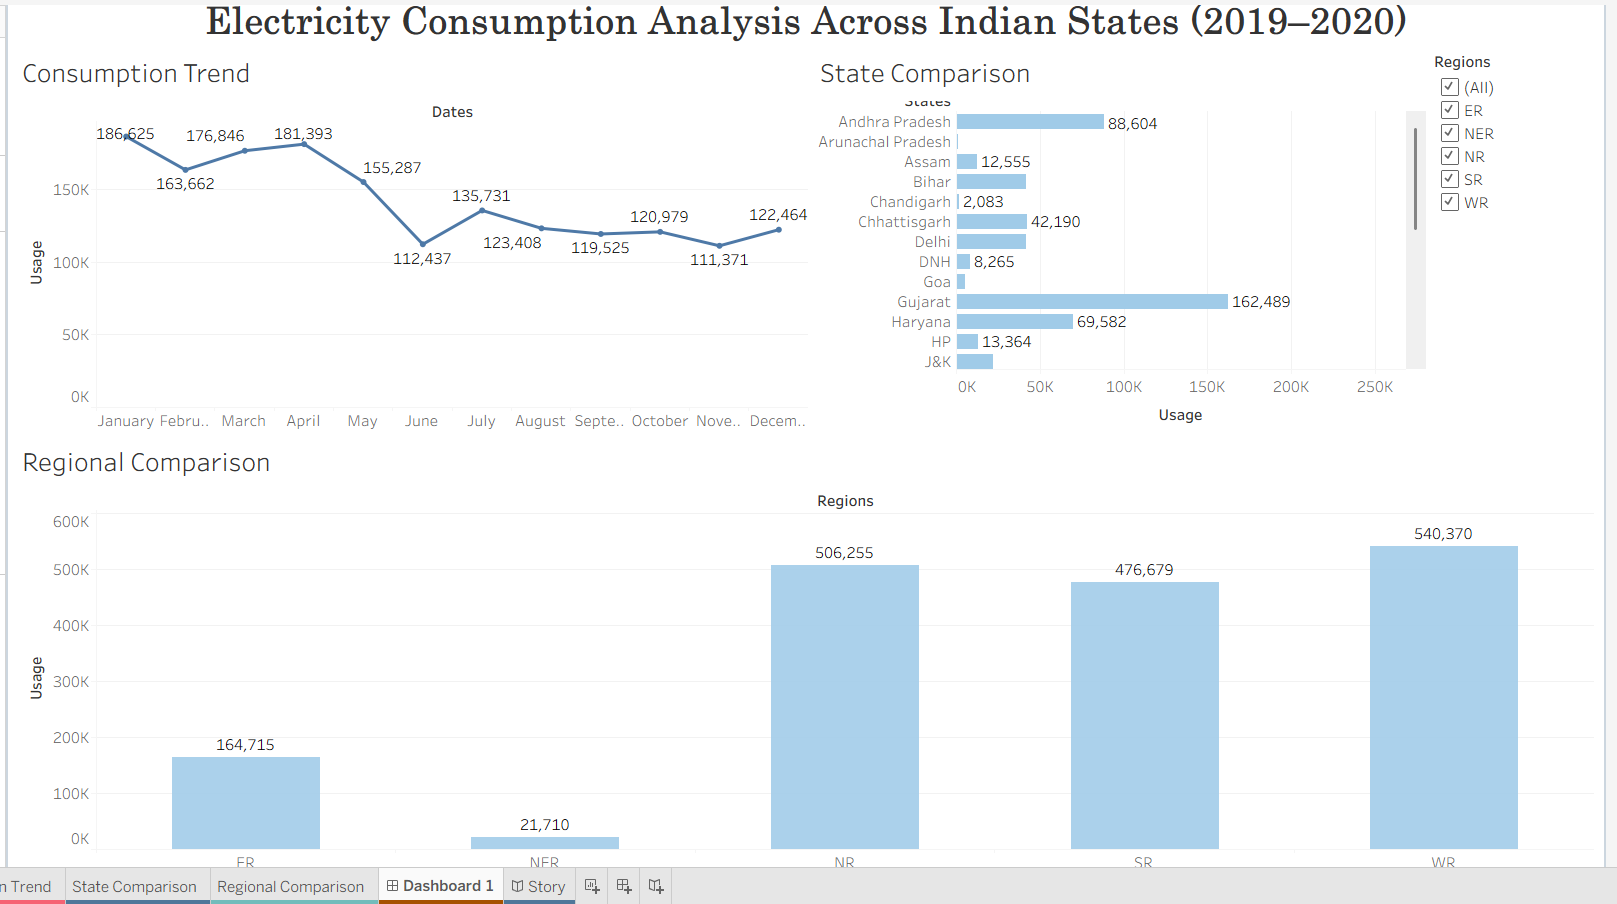

Layout of this report page (visuals, bound fields, positions):
{"tool":"tableau","page":{"name":"Dashboard 1","canvas":[1600,900],"ordinal":0},"visuals":[{"type":"text","box":[8,8,1584,53]},{"type":"worksheet","title":"Consumption Trend","mark":"Automatic","rows":["Usage"],"cols":["Dates"],"box":[8,61,798,389]},{"type":"worksheet","title":"State Comparison","mark":"Automatic","rows":["States"],"cols":["Usage"],"box":[806,61,618,389]},{"type":"filter","title":"Consumption Trend","param":"[federated.1xo8onp01f08y913xj1cd12ny1m1].[none:Regions:nk]","box":[1424,61,168,389]},{"type":"worksheet","title":"Regional Comparison","mark":"Automatic","rows":["Usage"],"cols":["Regions"],"box":[8,450,1584,442]}]}

Visuals, with their boxes on the page's 1600x900 design canvas (x1, y1, x2, y2). These are canvas units, not pixel positions in the 1617x904 screenshot, which may show the page scaled, cropped or inside an application window:
text: [8, 8, 1592, 61]
"Consumption Trend" worksheet: [8, 61, 806, 450]
"State Comparison" worksheet: [806, 61, 1424, 450]
"Consumption Trend" filter: [1424, 61, 1592, 450]
"Regional Comparison" worksheet: [8, 450, 1592, 892]
